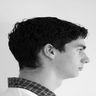ear: (39, 39, 60, 63)
